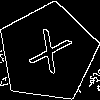X: (22, 28, 73, 84)
